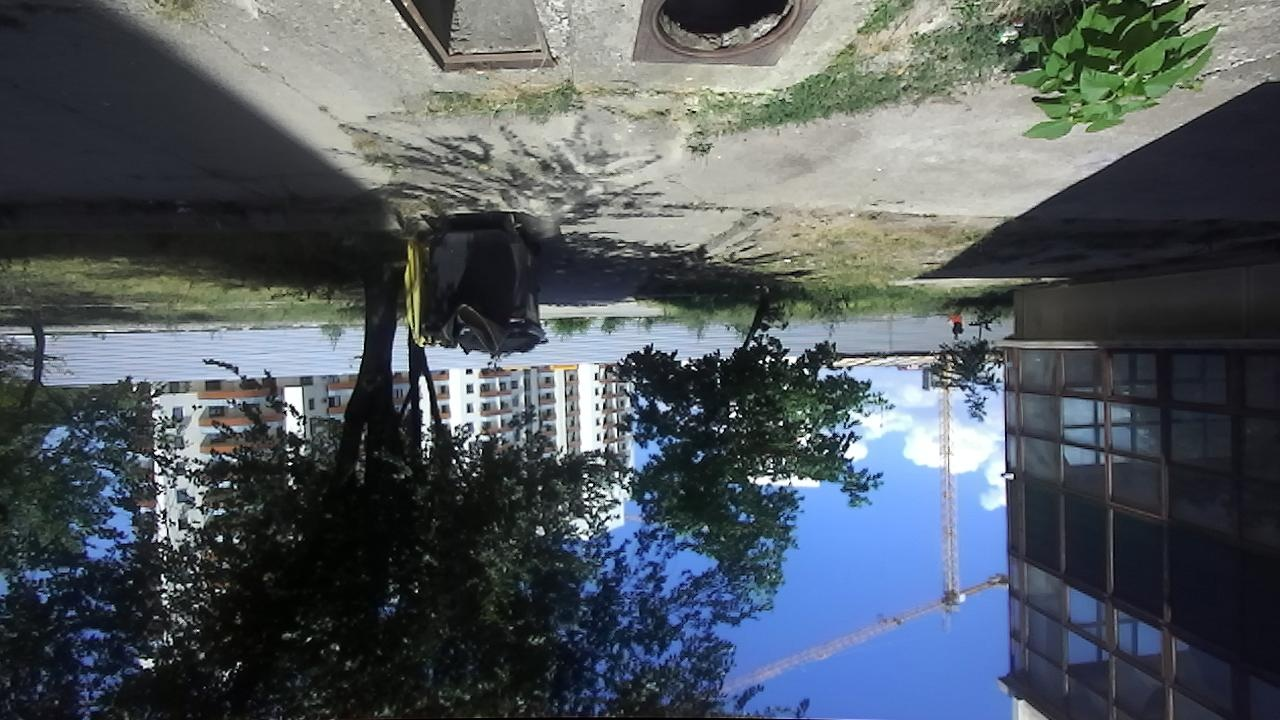drain: (382, 0, 559, 74), (648, 1, 805, 60)
